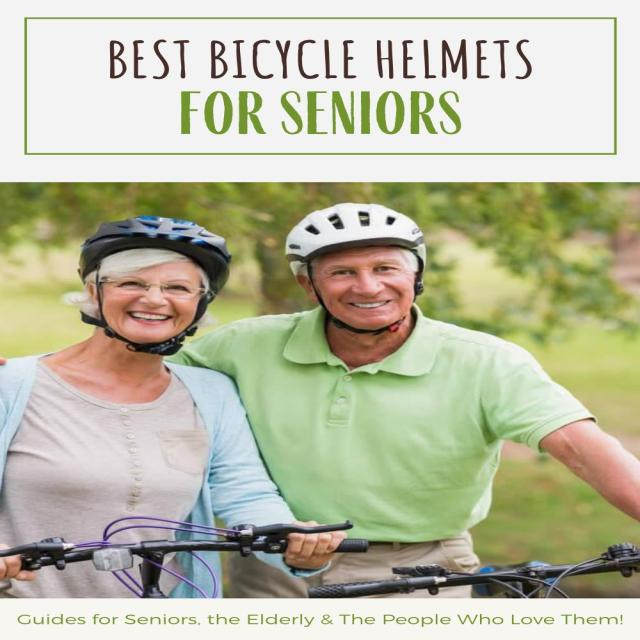Helmet: (79, 218, 236, 352), (282, 201, 429, 330)
